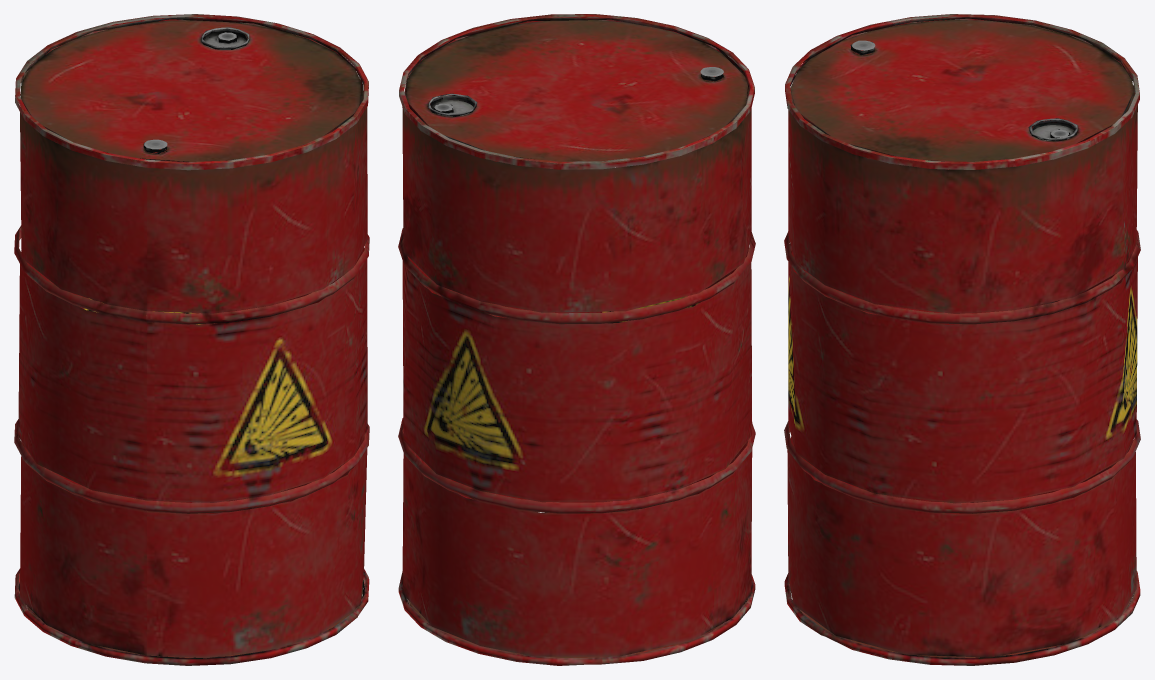
Rendered from distance.fbx.
3 renders of one model, left to right at view 1: azimuth 30°, elevation 25°; view 2: azimuth 150°, elevation 25°; view 3: azimuth 270°, elevation 25°, orthographic.
Parts seen in each view (by area): view 1: Barrel_01; view 2: Barrel_01; view 3: Barrel_01.
Part boxes in pixels (x1,y1,x2,y2): Barrel_01: (14,14,369,665); Barrel_01: (398,14,755,665); Barrel_01: (784,14,1140,665).
Bounding box in the file's own units: 56.38 × 87.96 × 56.38.
